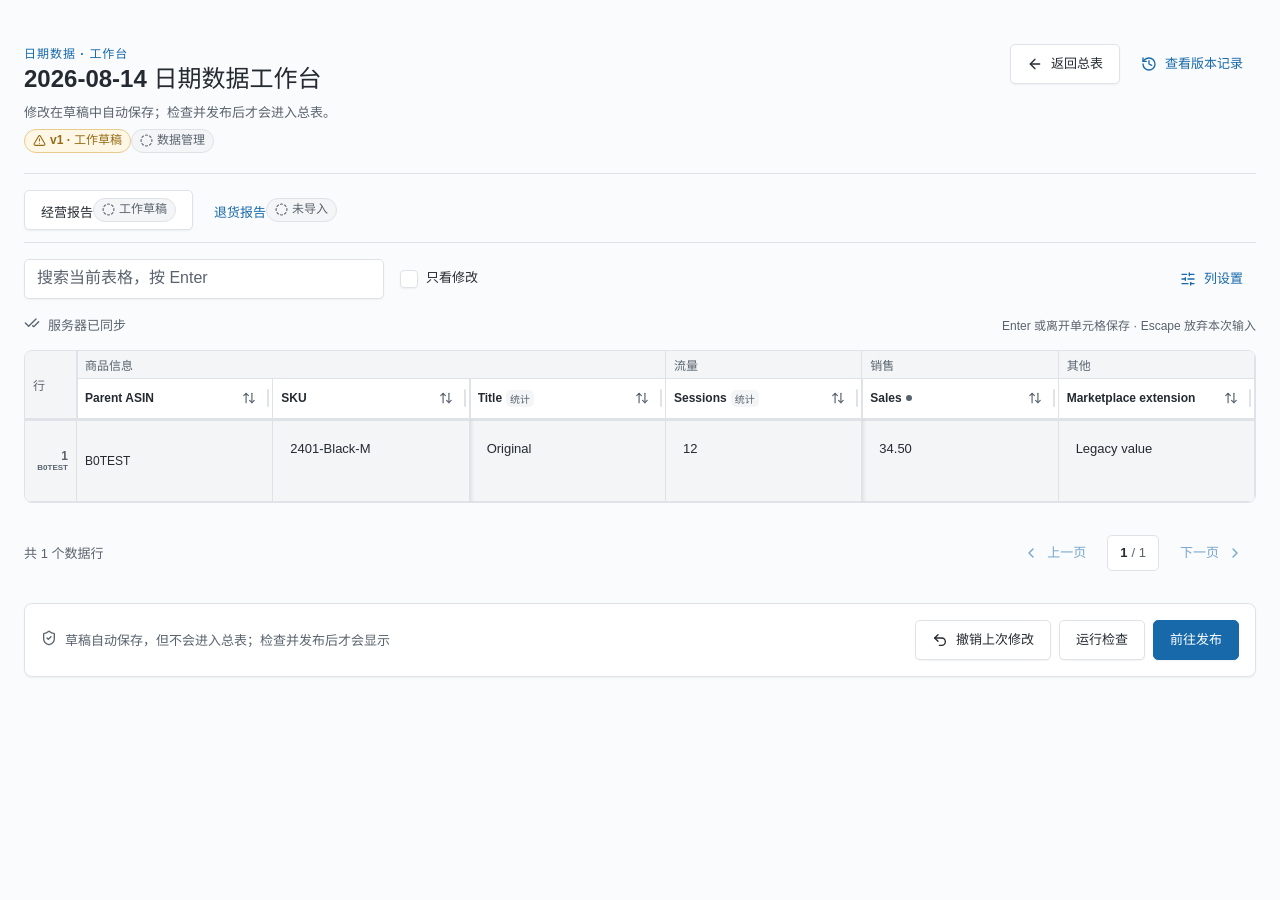
DateWorkbenchPage › disables stale undo availability with Chinese feedback and enables it after a new save
Click the button "撤销上次修改".
click(983, 640)  # box [915,620,1051,660]
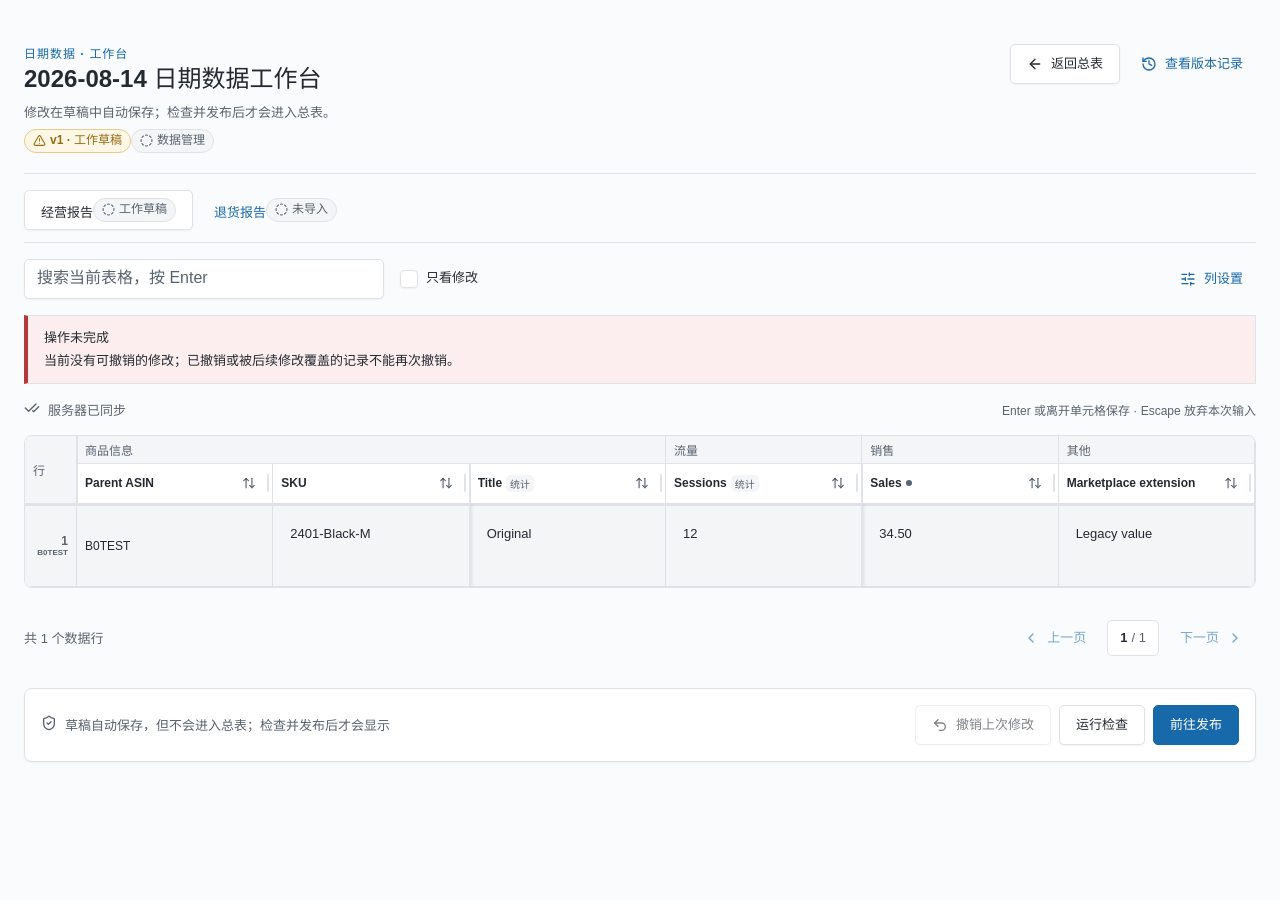
Expected: the text "当前没有可撤销的修改；已撤销或被后续修改覆盖的记录不能再次撤销。" is shown, [44,351,460,371]
Expected: the button "撤销上次修改" is disabled, [915,705,1051,745]
Replace the text in the field named "Title，第 1 行" with "New edit" at (567, 534), box [478,514,657,554]
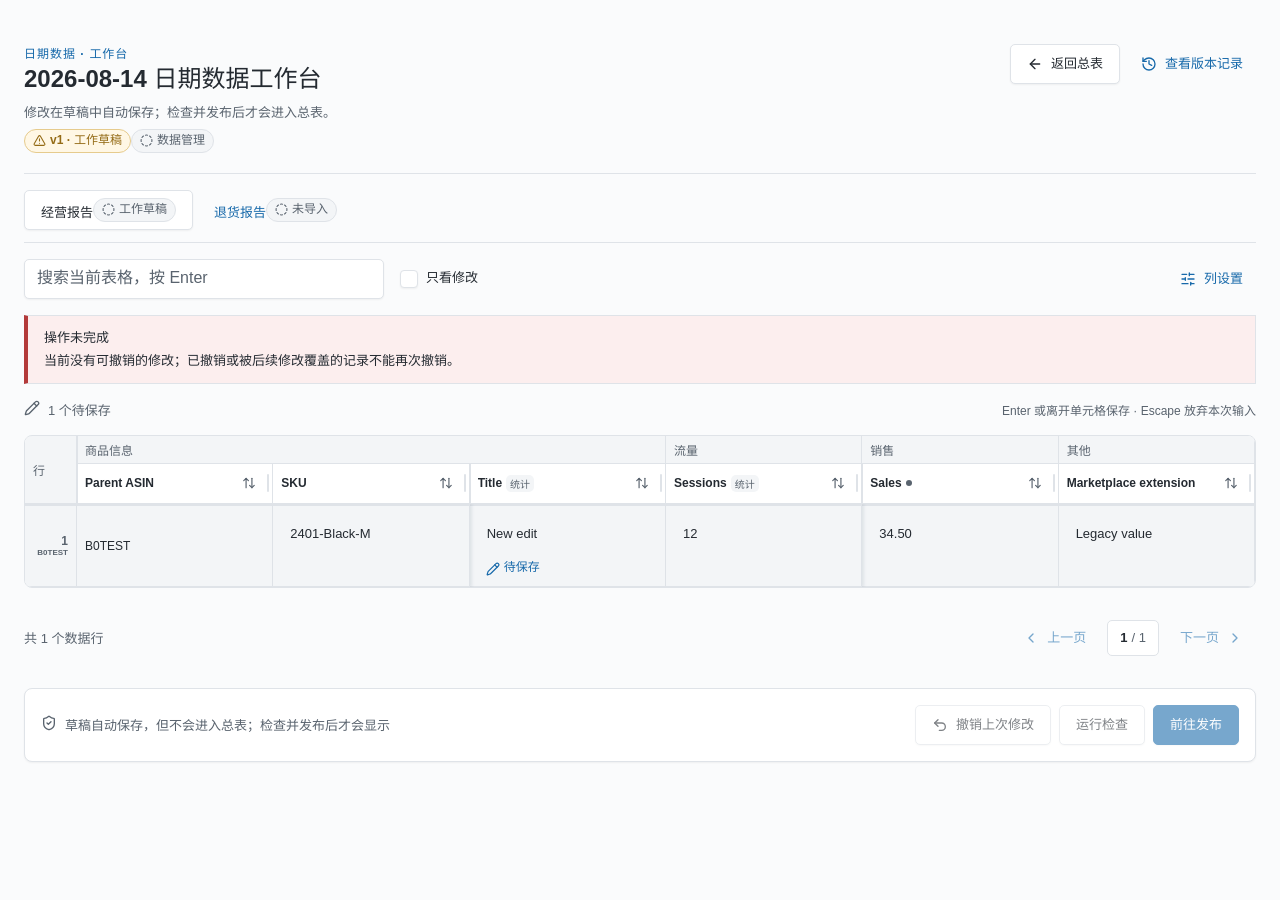
Leave the field named "Title，第 1 行", box [478,514,657,554]
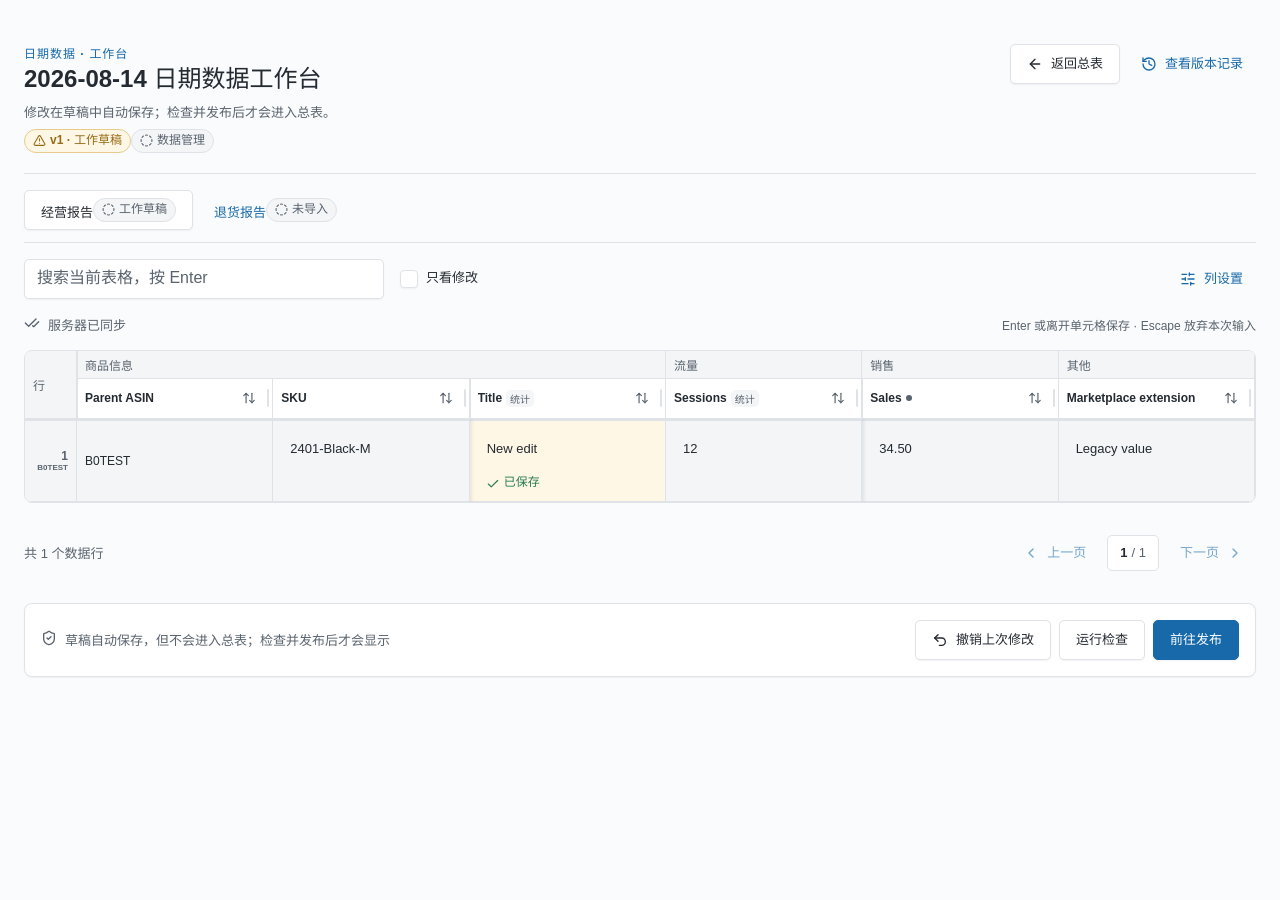
Expected: the button "撤销上次修改" is enabled, [915,620,1051,660]
Expected: the text "当前没有可撤销的修改；已撤销或被后续修改覆盖的记录不能再次撤销。" is gone
